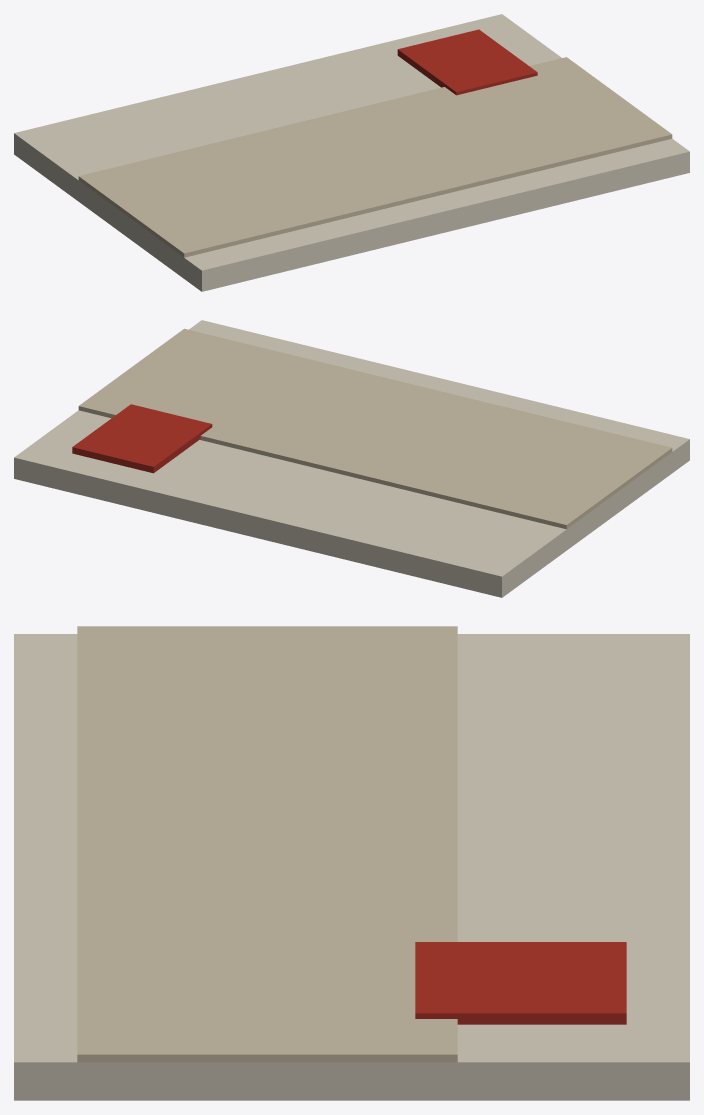
The model's file is letter.glb.
3 renders of one model, top to bottom at view 1: azimuth 30°, elevation 25°; view 2: azimuth 150°, elevation 25°; view 3: azimuth 270°, elevation 25°, orthographic. The views are drawn at different scales.
Parts seen in each view (by area): view 1: body; view 2: body; view 3: body.
Part boxes in pixels (<box>): body: <box>14,14,689,291</box>; body: <box>14,320,689,597</box>; body: <box>14,626,689,1100</box>.
Size of the model in its own units: 0.24 by 0.0135 by 0.16.
